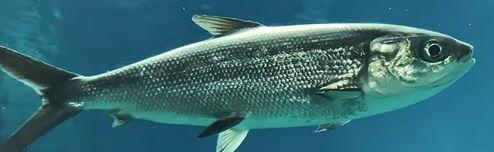Bangus: (1, 13, 476, 152)
